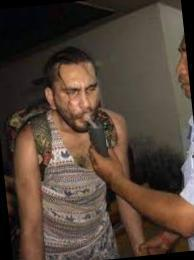Drunk: (61, 63, 97, 131)
